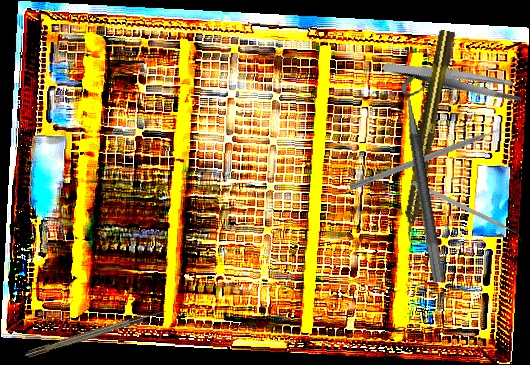Chopper: (348, 124, 512, 199), (408, 180, 526, 245)
Dressing Forceps: (380, 26, 527, 132)
Fixation Ring: (398, 73, 463, 284)
Handpiece: (396, 29, 458, 244)
Hook Surgical: (24, 307, 168, 359)
